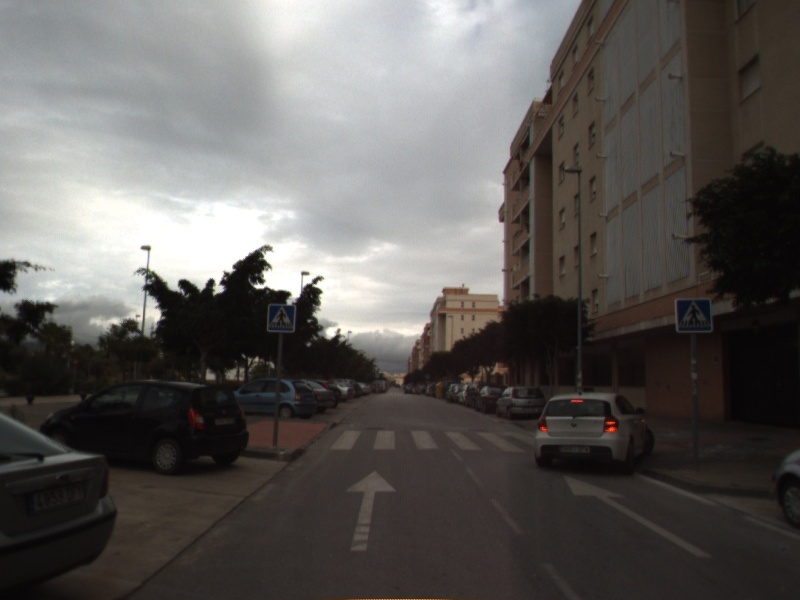STRAIGHT: (562, 473, 714, 559), (343, 468, 398, 553)
